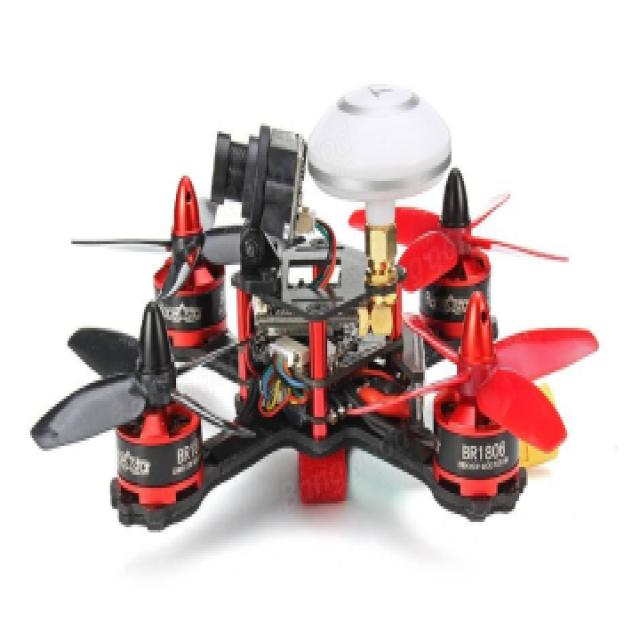drone: (28, 196, 624, 504)
